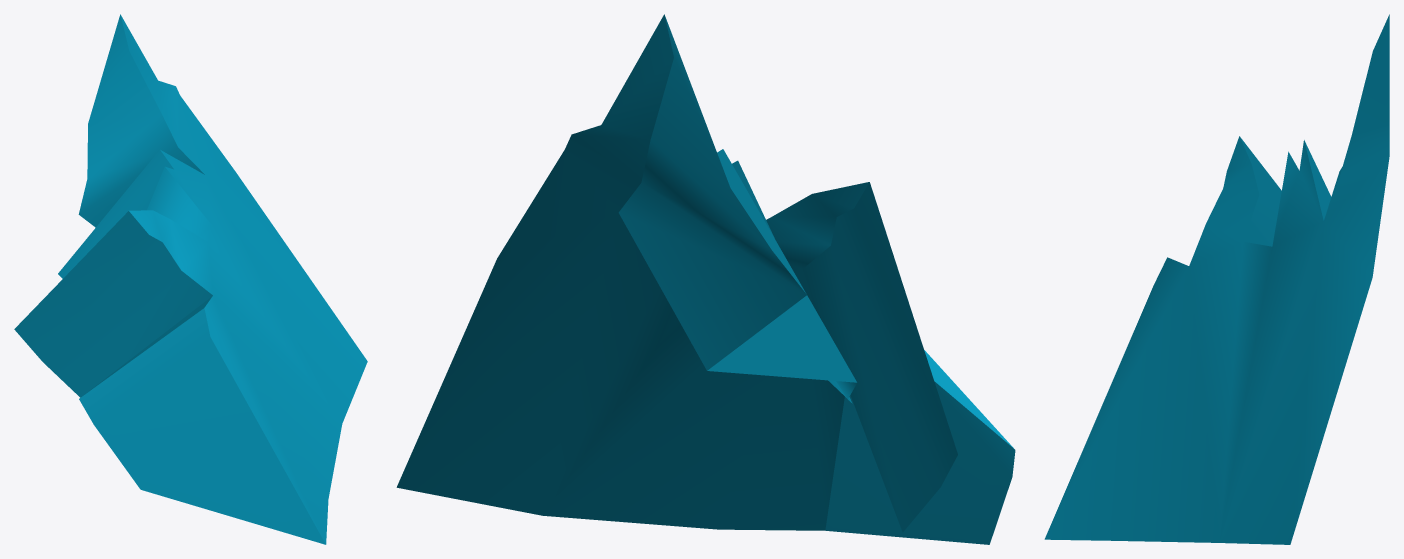
Rendered from mountain_02.fbx.
3 renders of one model, left to right at view 1: azimuth 30°, elevation 25°; view 2: azimuth 150°, elevation 25°; view 3: azimuth 270°, elevation 25°, orthographic. The views are drawn at different scales.
Parts seen in each view (by area): view 1: mountain02_Mesh; view 2: mountain02_Mesh; view 3: mountain02_Mesh.
Boxes of the visible parts, bbox=[...] form: mountain02_Mesh: bbox=[14, 14, 367, 544]; mountain02_Mesh: bbox=[396, 14, 1015, 544]; mountain02_Mesh: bbox=[1044, 14, 1389, 544].
Size of the model in its own units: 17.08 by 20.51 by 12.95.
